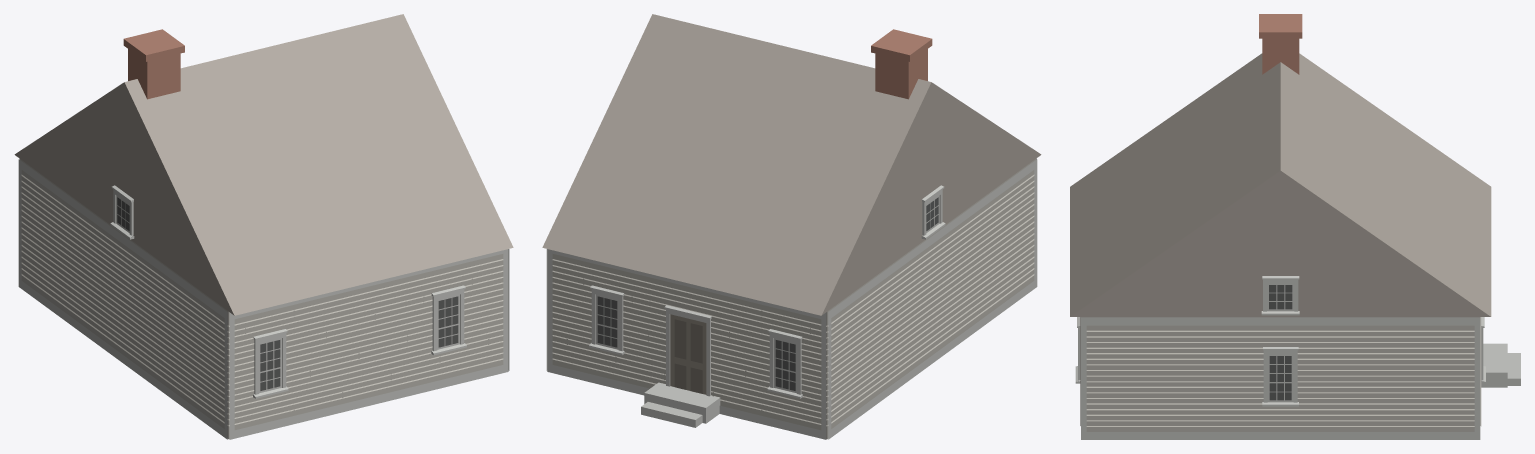
Rendered from recon_1835_north_d6_044__inferred_1835.glb.
3 renders of one model, left to right at view 1: azimuth 30°, elevation 25°; view 2: azimuth 150°, elevation 25°; view 3: azimuth 270°, elevation 25°, orthographic. The views are drawn at different scales.
Visible parts, largest first — view 1: recon_1835_north_d6_044__inferred_1835; view 2: recon_1835_north_d6_044__inferred_1835; view 3: recon_1835_north_d6_044__inferred_1835.
Boxes of the visible parts, x1,y1,x2,y2 form: recon_1835_north_d6_044__inferred_1835: (14,14,513,439); recon_1835_north_d6_044__inferred_1835: (542,14,1041,439); recon_1835_north_d6_044__inferred_1835: (1070,14,1520,439).
Size of the model in its own units: 7.23 by 7.51 by 10.24.
